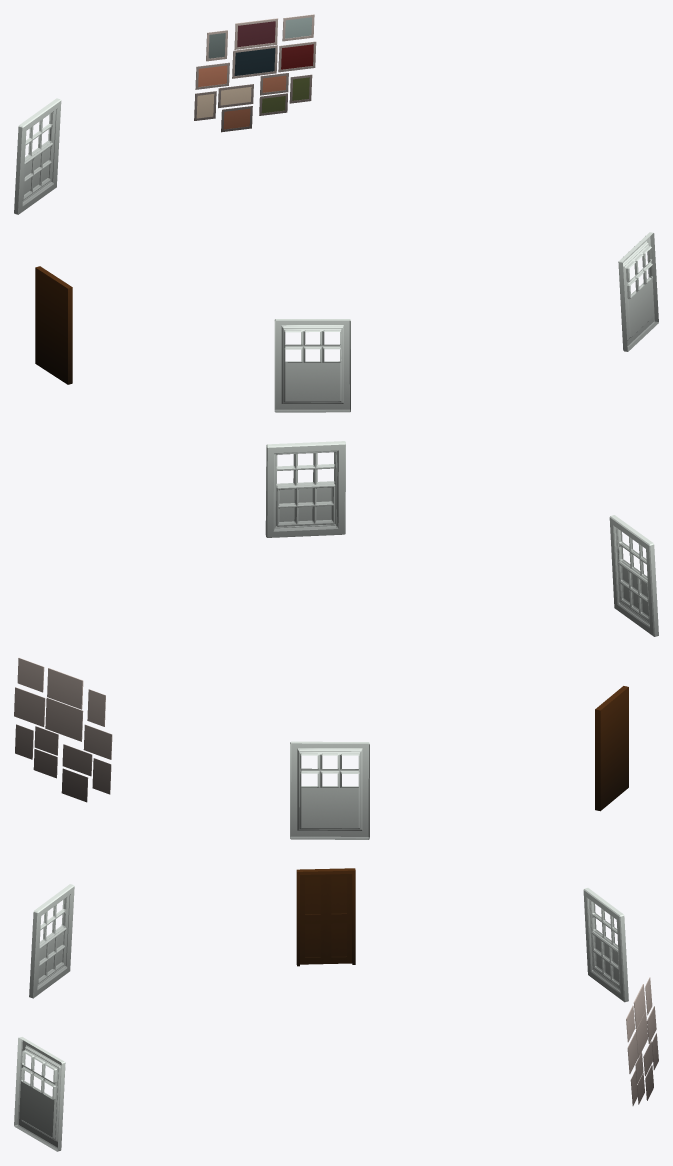
Rendered from Windowframesanddoors.fbx.
3 renders of one model, top to bottom at view 1: azimuth 30°, elevation 25°; view 2: azimuth 150°, elevation 25°; view 3: azimuth 270°, elevation 25°, orthographic. The views are drawn at different scales.
Visible parts, largest first — view 1: Windowframesanddoors; view 2: Windowframesanddoors; view 3: Windowframesanddoors.
Part boxes in pixels (bbox=[...]): Windowframesanddoors: bbox=[14, 14, 658, 412]; Windowframesanddoors: bbox=[14, 441, 658, 839]; Windowframesanddoors: bbox=[14, 868, 658, 1151].
Bounding box in the file's own units: 1181 × 353 × 1427.
